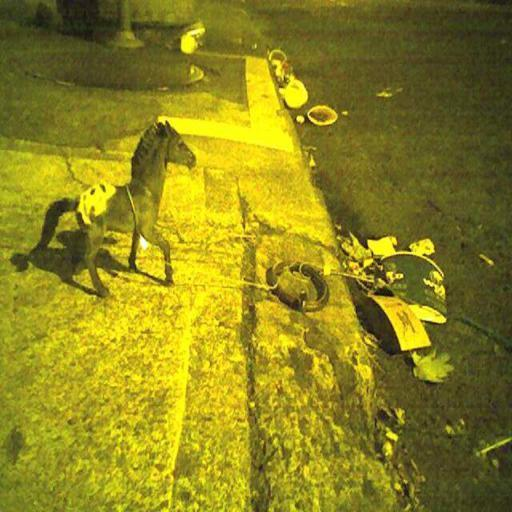horse: (32, 118, 198, 299)
